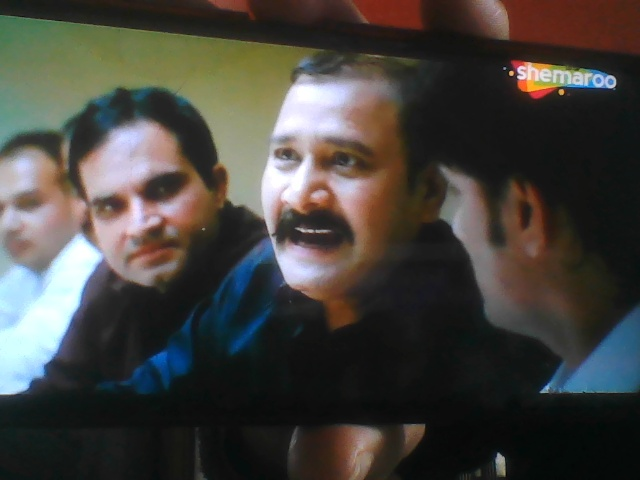fake: (243, 27, 429, 290), (79, 82, 230, 296)
